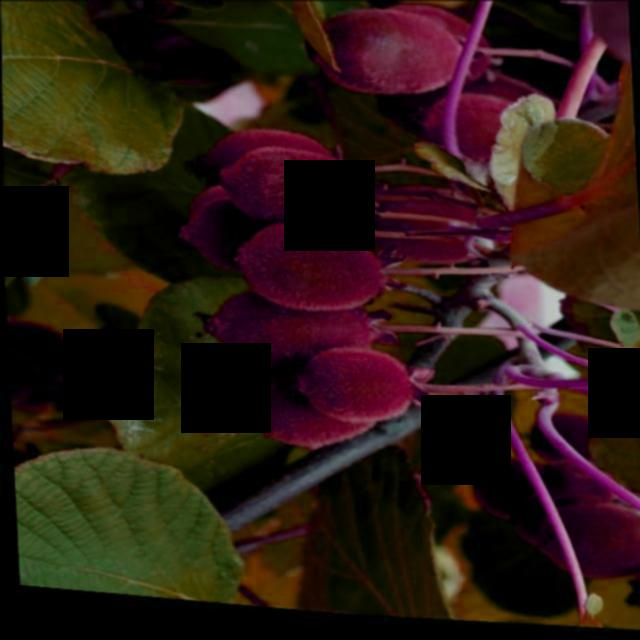kiwi: (229, 220, 409, 325), (201, 291, 399, 383), (309, 5, 470, 105), (213, 146, 370, 241), (281, 342, 439, 436), (226, 374, 378, 461), (368, 185, 491, 274), (529, 496, 640, 582), (416, 90, 527, 170)
